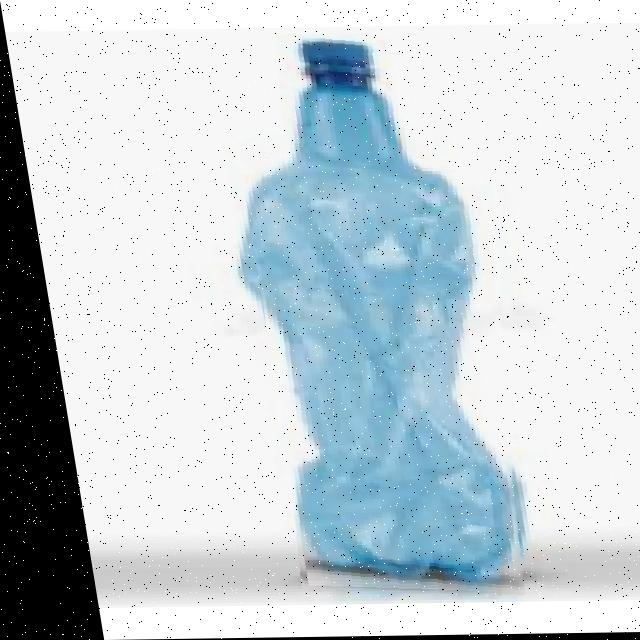litter: (218, 34, 526, 597)
